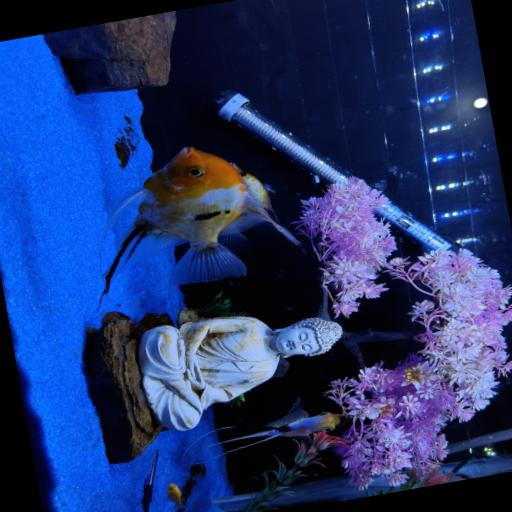Fish: (100, 148, 298, 296), (216, 399, 350, 453), (230, 163, 277, 222), (166, 484, 181, 505)
